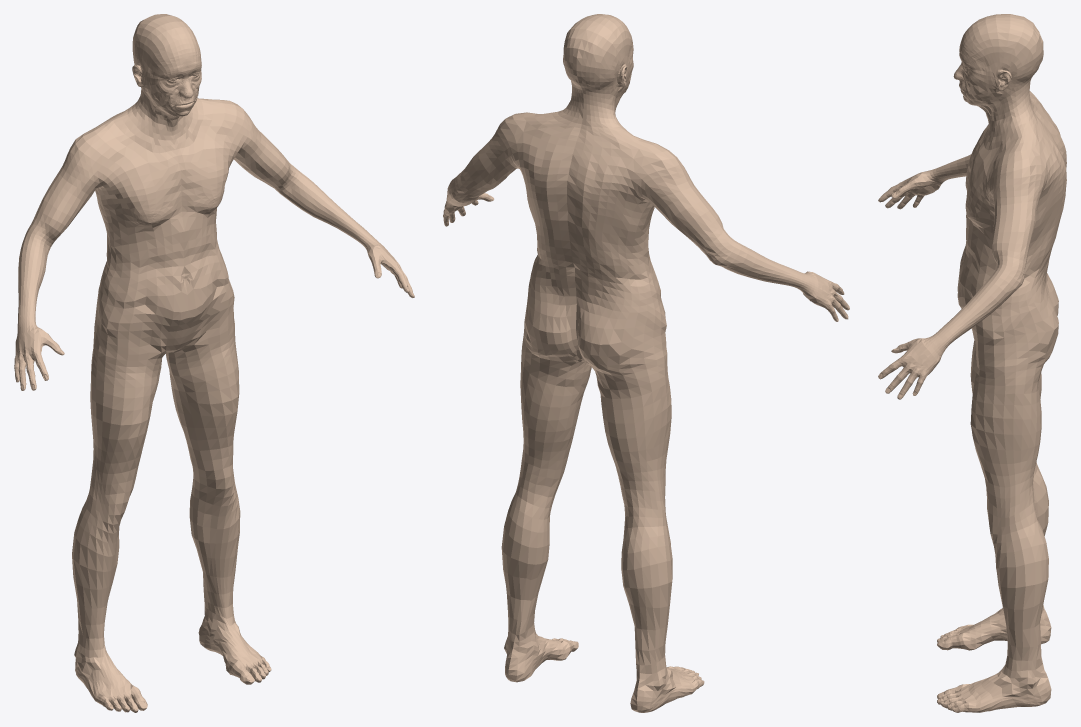
File: male-elder-average-high.glb
The picture shows the model from 3 angles, left to right: view 1: azimuth 30°, elevation 25°; view 2: azimuth 150°, elevation 25°; view 3: azimuth 270°, elevation 25°; orthographic projection.
Parts seen in each view (by area): view 1: world; view 2: world; view 3: world.
Boxes of the visible parts, x1=… form: world: x1=14, y1=14, x2=414, y2=712; world: x1=443, y1=14, x2=849, y2=712; world: x1=878, y1=14, x2=1066, y2=712.
Size of the model in its own units: 1.2 by 1.92 by 0.4996.
